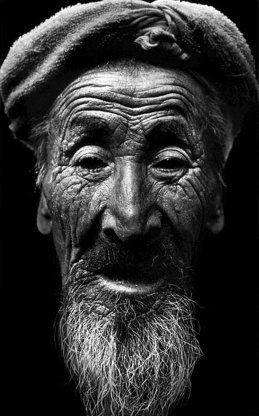Forehead: (46, 67, 214, 132)
